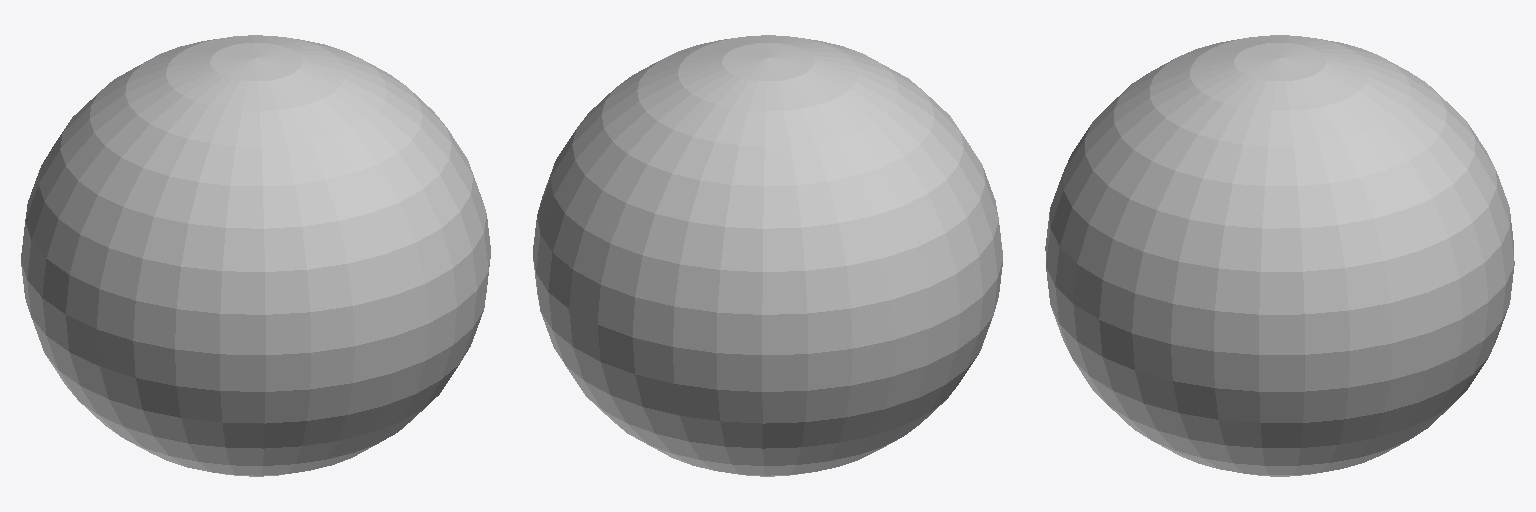
File: jupiter.obj
The picture shows the model from 3 angles: view 1: azimuth 30°, elevation 25°; view 2: azimuth 150°, elevation 25°; view 3: azimuth 270°, elevation 25°; orthographic projection.
Visible parts, largest first — view 1: Jupiter_Sphere.004; view 2: Jupiter_Sphere.004; view 3: Jupiter_Sphere.004.
Part boxes in pixels (x1,y1,x2,y2): Jupiter_Sphere.004: (21,35,490,476); Jupiter_Sphere.004: (533,35,1002,476); Jupiter_Sphere.004: (1045,35,1514,476).
Bounding box in the file's own units: 9.96 × 9.26 × 9.96.